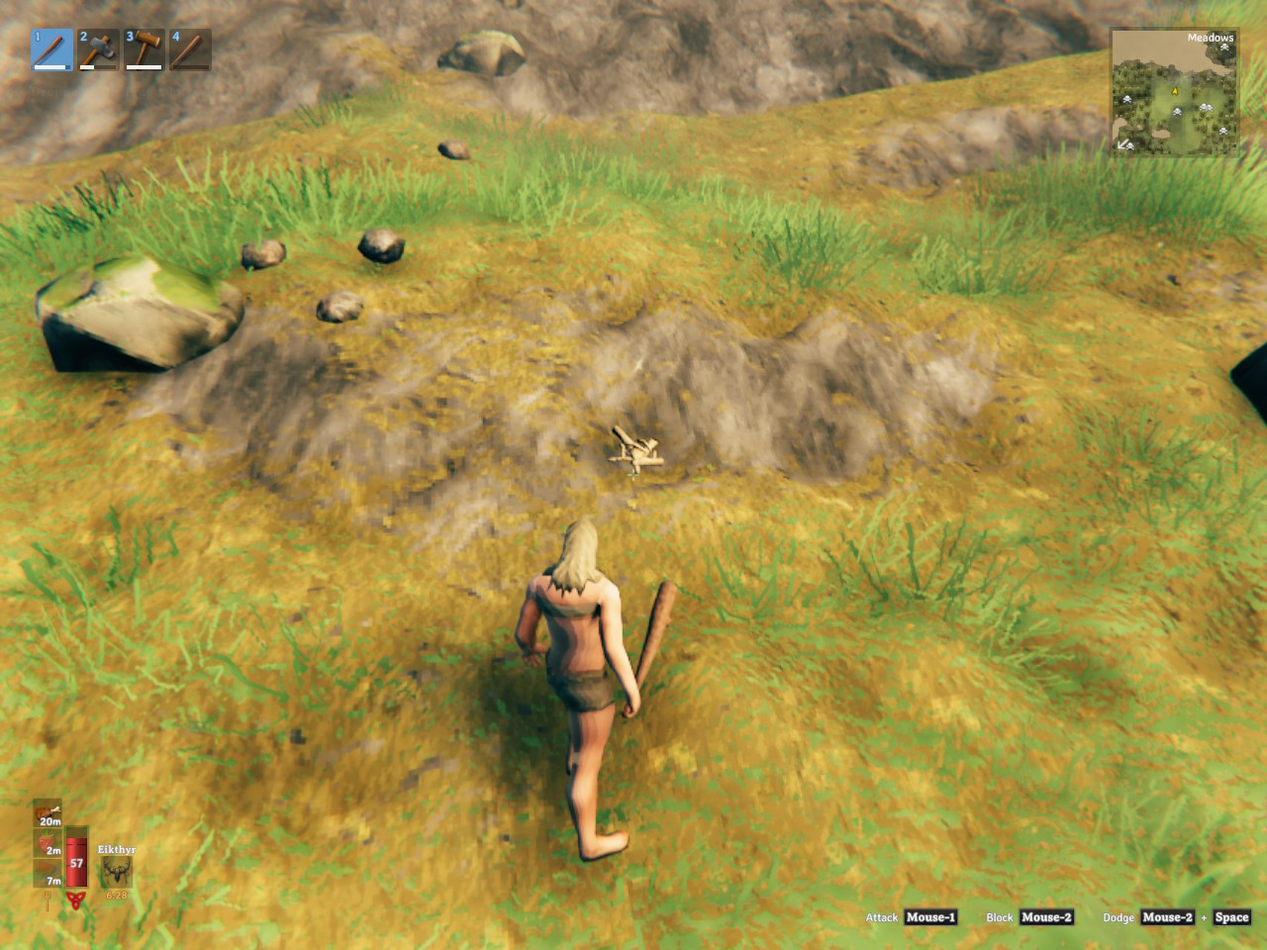Club: (635, 581, 677, 690)
Food Indicator: (36, 797, 63, 891)
Health Bar: (63, 824, 90, 891)
Hotbar: (25, 21, 398, 78)
Stone: (357, 228, 404, 263), (316, 290, 363, 323), (242, 239, 286, 270), (439, 139, 471, 160)
